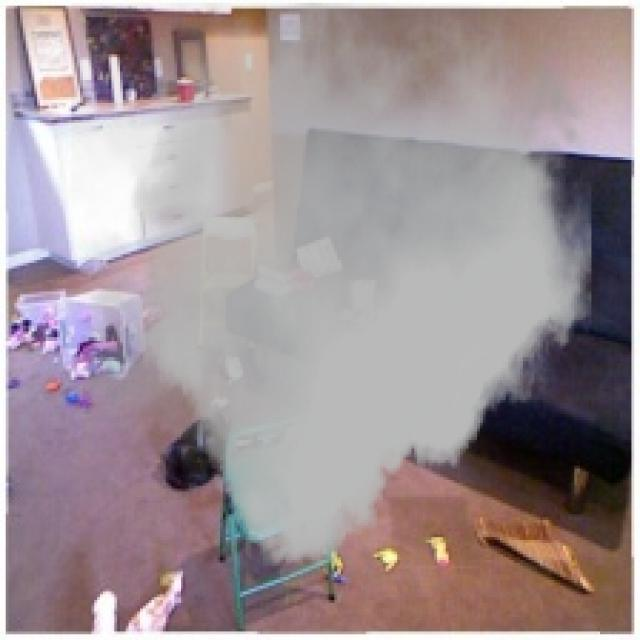Smoke: (71, 3, 600, 566)
